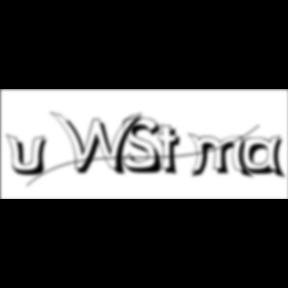S: (123, 117, 169, 176)
W: (50, 110, 148, 178)
m: (188, 132, 256, 181)
t: (158, 124, 188, 179)
u: (6, 132, 54, 178)
